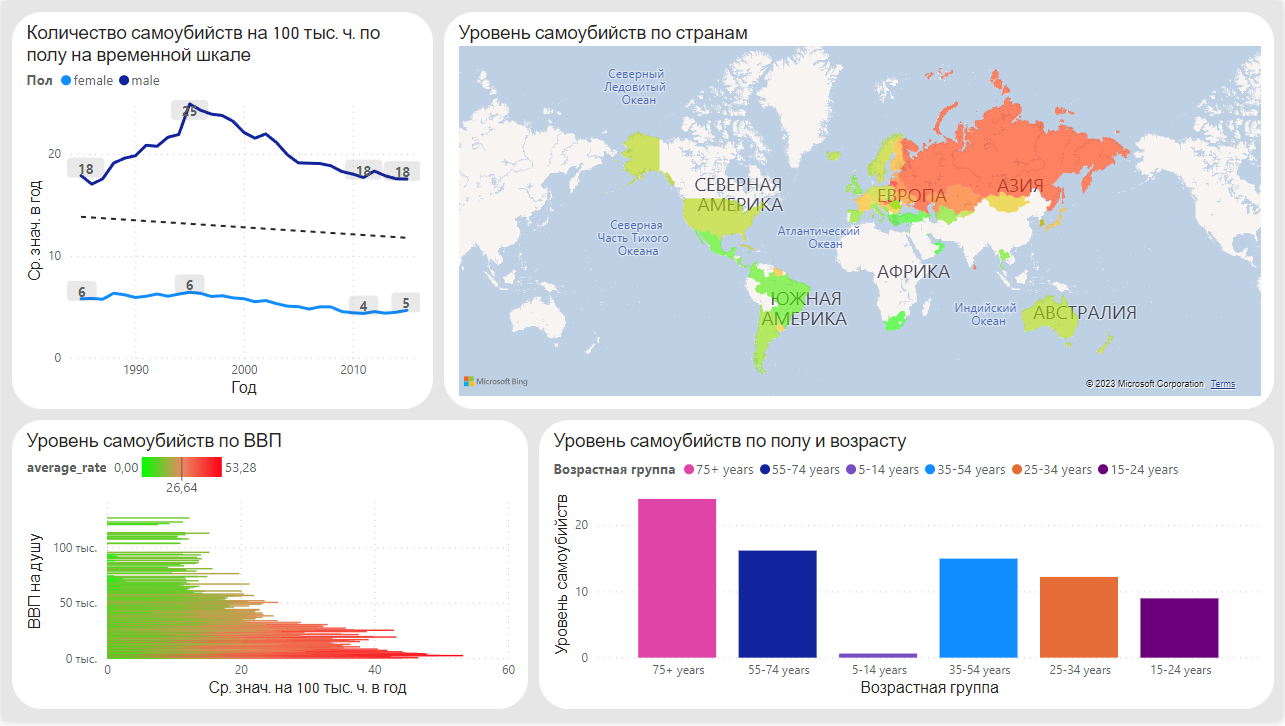

Layout of this report page (visuals, bound fields, positions):
{"tool":"powerbi","page":{"name":"Страница 1","canvas":[1280,720],"ordinal":0},"visuals":[{"type":"lineChart","title":"Количество самоубийств на 100 тыс. ч. по полу на временной шкале","fields":{"Category":["master.year"],"Series":["master.sex"],"Y":["Avg(master.suicides/100k pop)"]},"box":[10,11.1,421.1,396.7],"z":1000},{"type":"columnChart","title":"Уровень самоубийств по полу и возрасту","fields":{"Category":["master.age","master.sex"],"Series":["master.age"],"Y":["Avg(master.suicides/100k pop)"]},"box":[536.7,418.9,735.6,288.9],"z":2000},{"type":"barChart","title":"Уровень самоубийств по ВВП","fields":{"Category":["master.gdp_per_capita ($)"],"Y":["Avg(master.suicides/100k pop)"]},"box":[10,418.9,515.6,288.9],"z":3000},{"type":"filledMap","title":"Уровень самоубийств по странам","fields":{"Category":["master.country"]},"box":[442.2,11.1,830,396.7],"z":4000}]}

Visuals, with their boxes in screenshot pixels (x1, y1, x2, y2), scaled from the page's 1280x720 canvas onto the 1285x726 screenshot:
"Количество самоубийств на 100 тыс. ч. по полу на временной шкале" lineChart: box=[10, 11, 433, 411]
"Уровень самоубийств по полу и возрасту" columnChart: box=[539, 422, 1277, 714]
"Уровень самоубийств по ВВП" barChart: box=[10, 422, 528, 714]
"Уровень самоубийств по странам" filledMap: box=[444, 11, 1277, 411]
